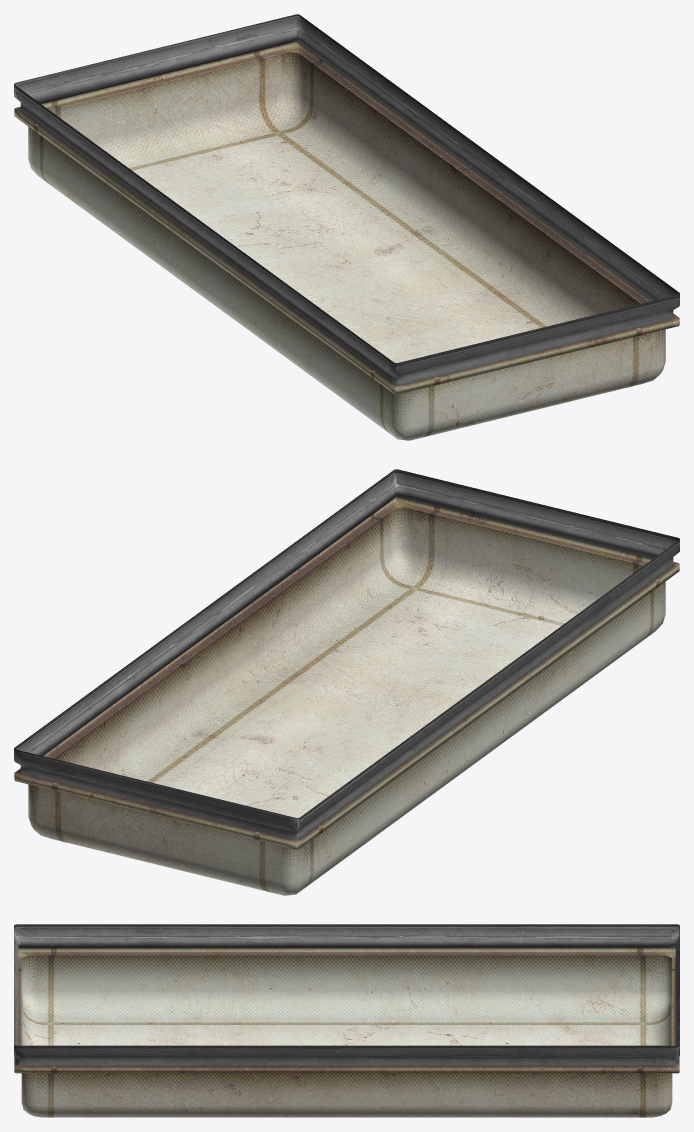
File: fluorescent_ceil_cabin_large.dae
The picture shows the model from 3 angles, top to bottom: view 1: azimuth 30°, elevation 25°; view 2: azimuth 150°, elevation 25°; view 3: azimuth 270°, elevation 25°; orthographic projection. The views are drawn at different scales.
Parts seen in each view (by area): view 1: flourescent_ceil_cabin_large; view 2: flourescent_ceil_cabin_large; view 3: flourescent_ceil_cabin_large.
Part boxes in pixels (bbox=[...]): flourescent_ceil_cabin_large: bbox=[14, 14, 679, 440]; flourescent_ceil_cabin_large: bbox=[14, 469, 679, 895]; flourescent_ceil_cabin_large: bbox=[14, 924, 679, 1117].
Size of the model in its own units: 0.5475 by 0.1725 by 1.27.
